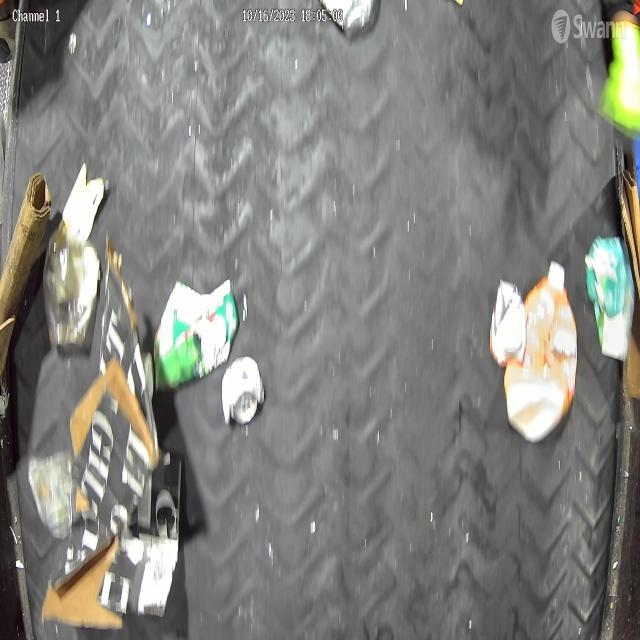can: (490, 280, 527, 366), (221, 357, 266, 427)
non_white_jug: (504, 261, 577, 442), (584, 235, 636, 361)
